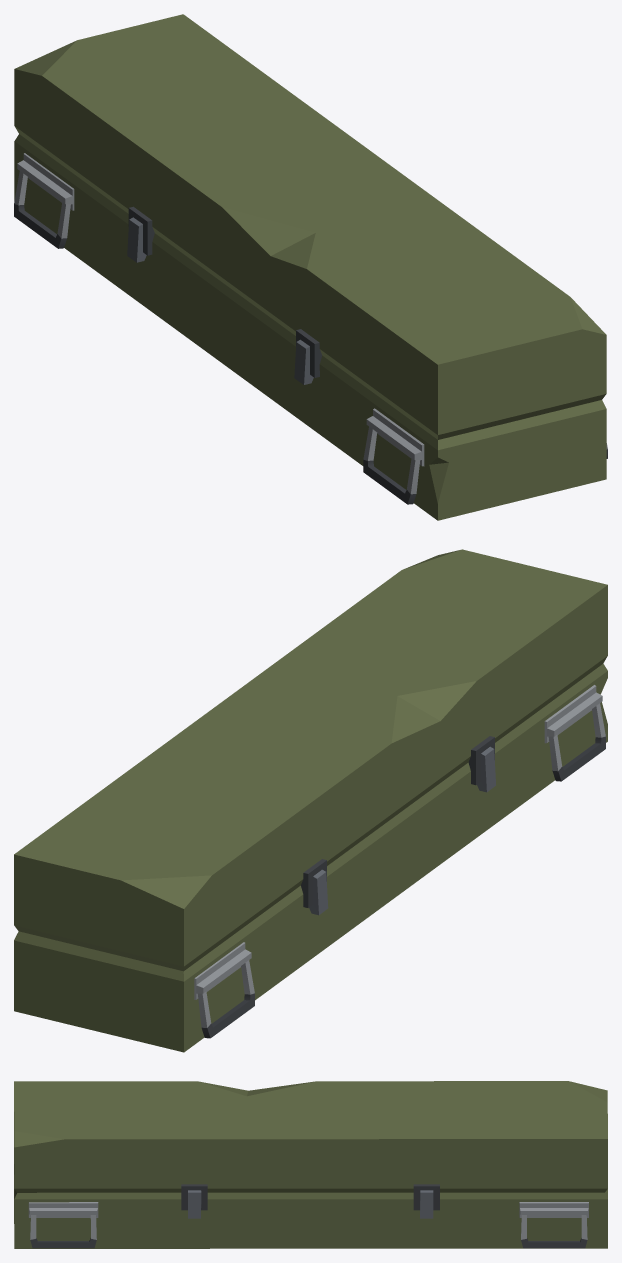
File: SM_Prop_Missle_Crate_02.fbx
3 views of the same model, one above another, from view 1: azimuth 30°, elevation 25°; view 2: azimuth 150°, elevation 25°; view 3: azimuth 270°, elevation 25° (orthographic). The views are drawn at different scales.
Parts seen in each view (by area): view 1: SM_Prop_Missle_Crate_02_Lid, SM_Prop_Missle_Crate_02; view 2: SM_Prop_Missle_Crate_02_Lid, SM_Prop_Missle_Crate_02; view 3: SM_Prop_Missle_Crate_02_Lid, SM_Prop_Missle_Crate_02.
Boxes of the visible parts, bbox=[...] form: SM_Prop_Missle_Crate_02_Lid: bbox=[14, 14, 606, 439]; SM_Prop_Missle_Crate_02: bbox=[14, 134, 607, 520]; SM_Prop_Missle_Crate_02_Lid: bbox=[14, 549, 607, 971]; SM_Prop_Missle_Crate_02: bbox=[14, 663, 607, 1052]; SM_Prop_Missle_Crate_02_Lid: bbox=[14, 1081, 607, 1218]; SM_Prop_Missle_Crate_02: bbox=[14, 1164, 607, 1248].
Bounding box in the file's own units: 40.68 × 30.72 × 151.
